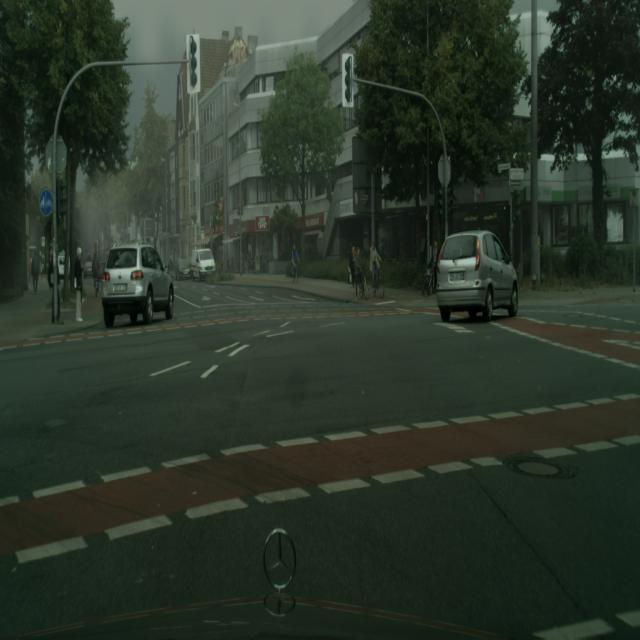car: (361, 260, 383, 301)
person: (73, 247, 84, 322), (369, 240, 381, 292), (31, 249, 40, 292), (92, 249, 100, 297), (349, 244, 358, 286), (291, 242, 299, 278)
truck: (435, 229, 519, 322), (100, 242, 174, 328), (190, 248, 216, 282), (175, 256, 191, 280)
